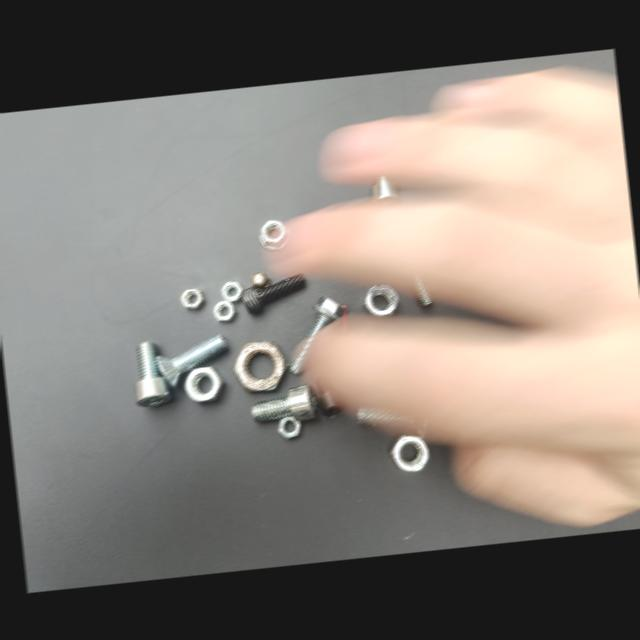bolt: (287, 295, 346, 374), (154, 333, 227, 386), (239, 271, 306, 313), (250, 384, 318, 421), (134, 341, 171, 406), (356, 405, 427, 438), (367, 170, 401, 204), (314, 378, 344, 415), (411, 276, 434, 312)
nuts: (232, 341, 287, 390), (388, 434, 429, 471), (183, 366, 225, 402), (362, 284, 399, 315), (258, 219, 289, 249), (277, 415, 301, 438), (212, 299, 236, 321), (180, 288, 205, 309), (220, 280, 242, 301), (249, 271, 270, 289)
